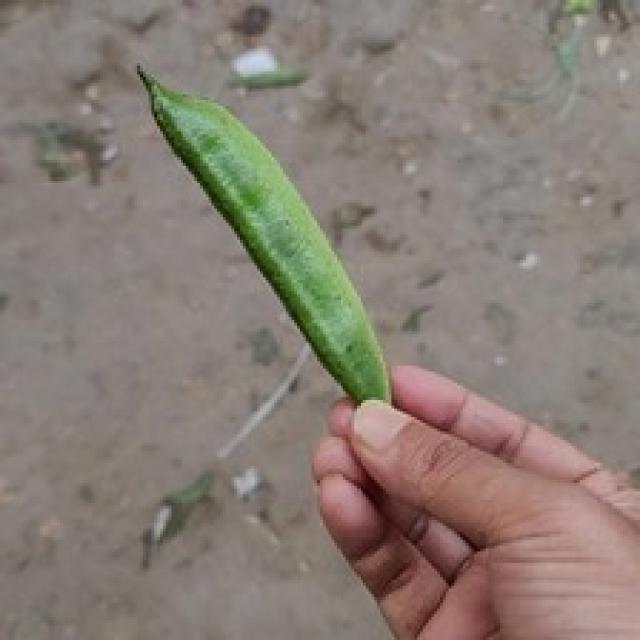Bean: (134, 60, 392, 406)
